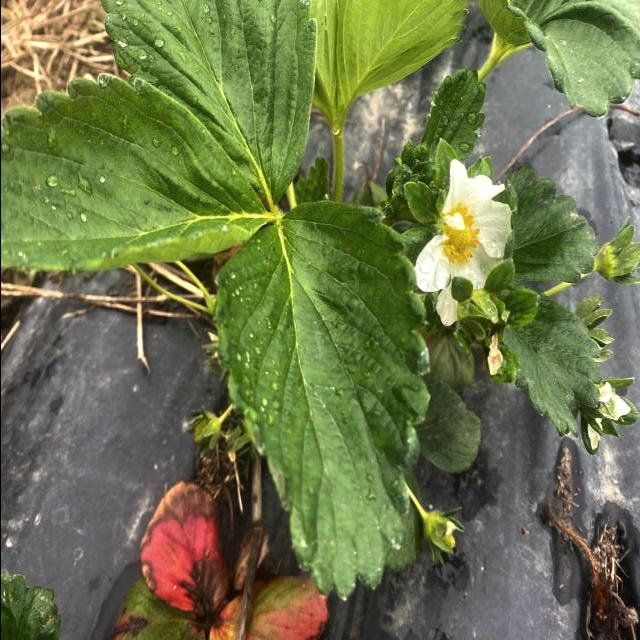flower: (412, 140, 512, 324)
